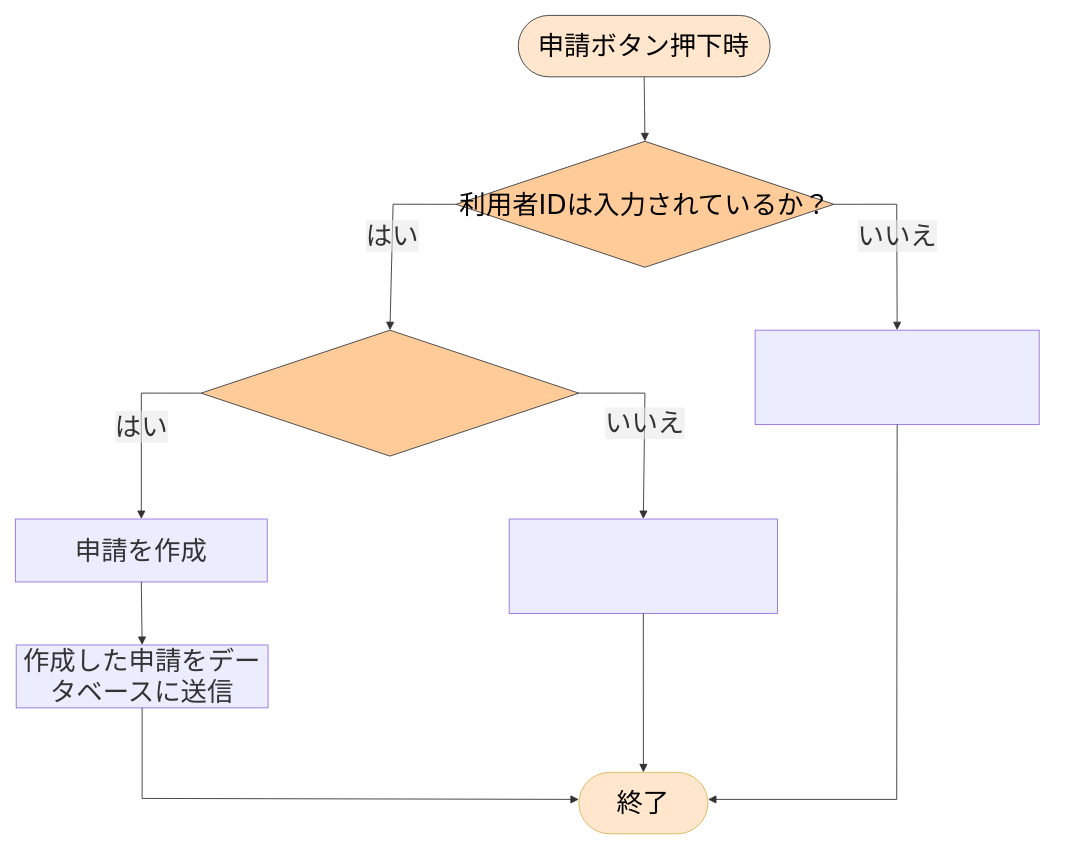
Image size: 1090x849. Some labels were removed from this diagram. The centre of each missing label's shape, as x and y in pixels:
"エラーコード「ERR_NON_BOOK_INFO」" belongs at point (642, 565).
"エラーコード「ERR_NON_INPUT_USER」" belongs at point (896, 377).
"蔵書IDが少なくとも1冊以上入力されているか？" belongs at point (389, 392).
